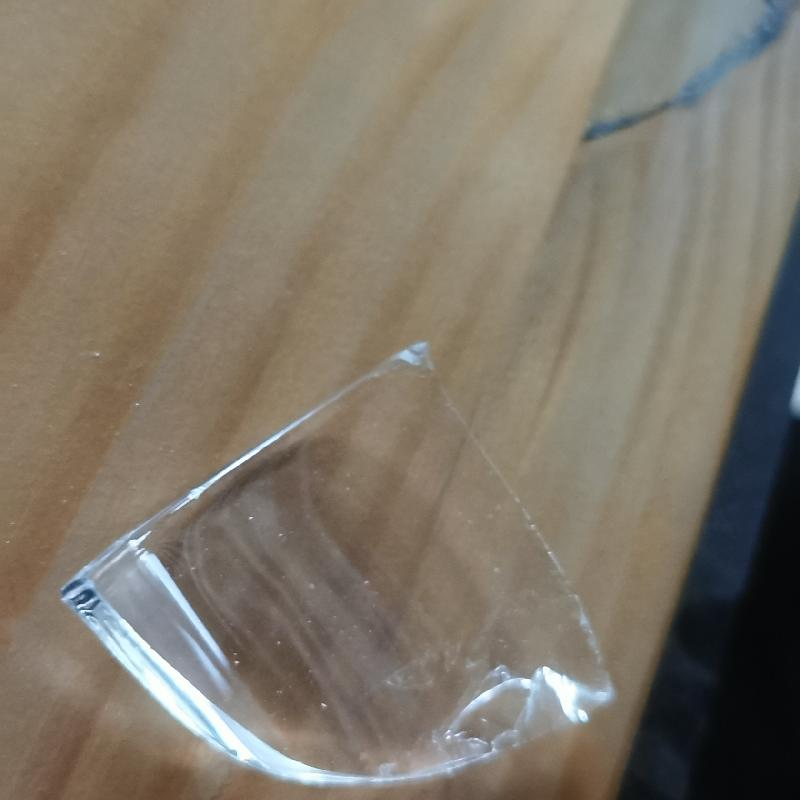glass: (58, 338, 622, 787)
